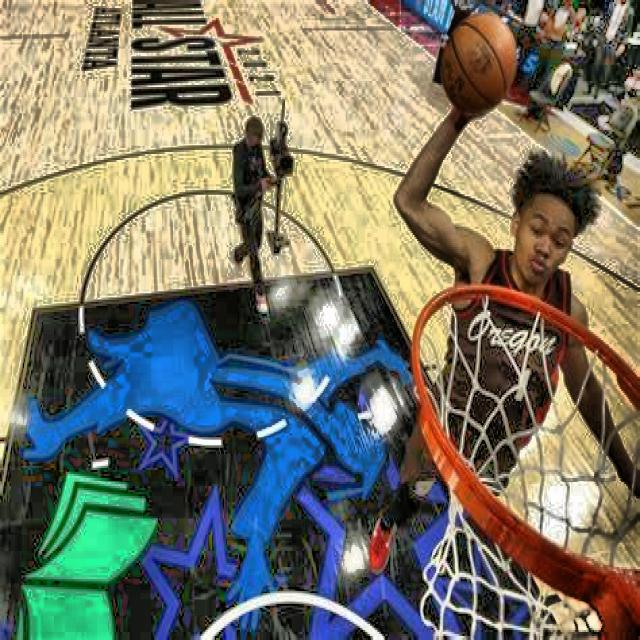rim: (439, 11, 516, 119)
